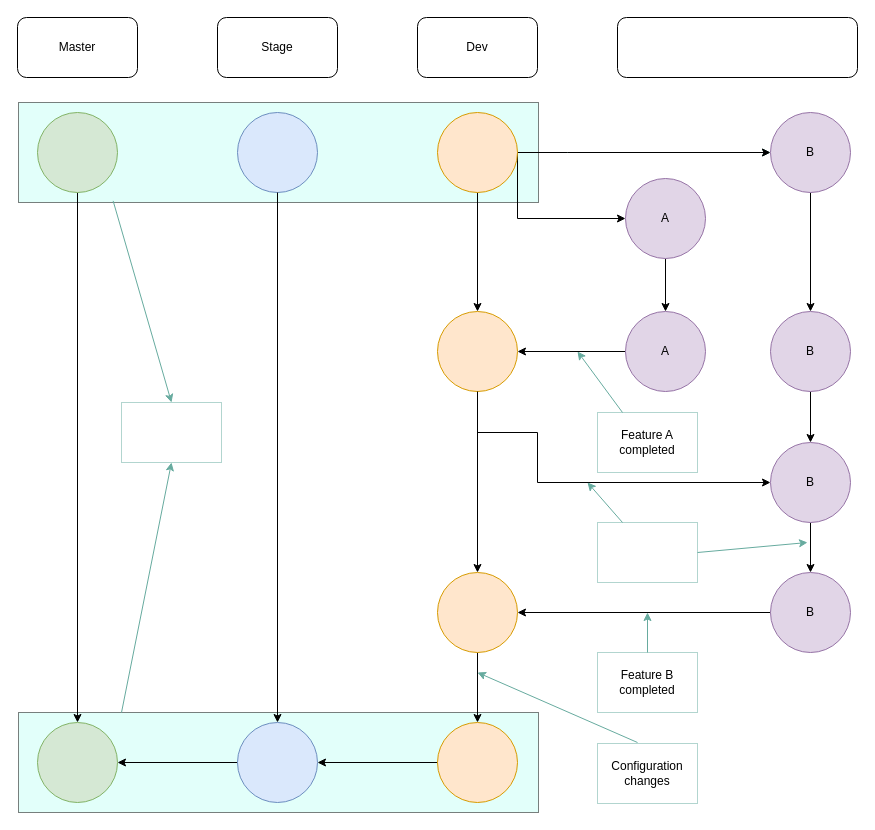
Image size: 875x830. Some labels were removed from this diagram. The shapes that lost their labels are listed below. From the top down, each one's centre as x and y in pixels, then its label:
(737,47): Feature Branches
(171,432): Branches are identical
(647,552): Feature B incorporates changes from A
